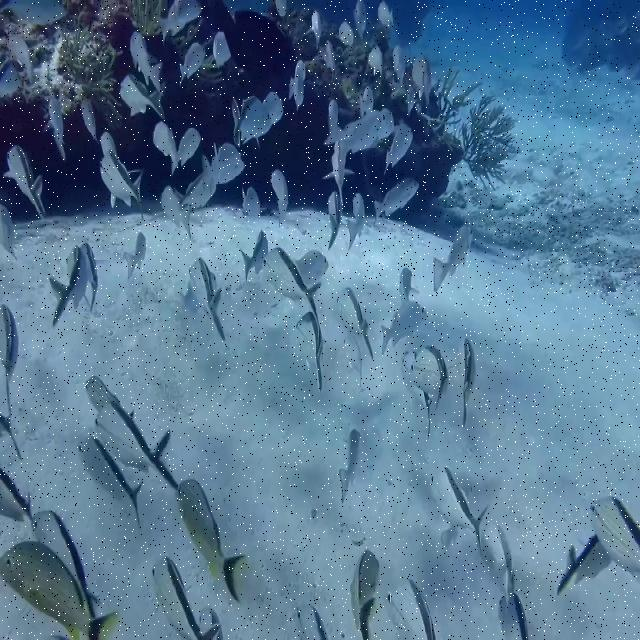aquatic plants: (426, 65, 521, 191), (54, 0, 167, 98)
fish: (0, 539, 119, 639), (178, 479, 248, 602), (95, 400, 179, 490), (31, 510, 101, 616), (78, 434, 147, 533), (150, 557, 222, 639), (429, 466, 489, 555), (588, 496, 639, 583), (266, 248, 321, 322), (1, 146, 46, 221), (556, 533, 611, 594), (46, 248, 87, 326), (190, 259, 226, 343), (100, 150, 145, 216), (384, 581, 435, 639), (349, 549, 381, 639), (337, 286, 374, 362), (378, 302, 430, 356), (483, 526, 514, 615), (434, 224, 473, 293), (408, 345, 448, 410), (230, 94, 271, 152), (296, 312, 324, 395), (156, 0, 202, 48), (323, 114, 383, 150), (320, 144, 363, 193), (129, 29, 164, 88), (119, 78, 167, 121), (202, 142, 245, 189), (338, 429, 364, 505), (374, 177, 417, 219), (382, 121, 414, 176), (159, 185, 192, 237), (43, 96, 65, 165), (241, 232, 268, 286), (496, 595, 529, 639), (462, 338, 477, 427), (289, 606, 329, 639), (153, 121, 178, 173), (179, 41, 206, 85), (181, 174, 216, 207), (297, 249, 328, 286), (123, 235, 148, 280), (86, 376, 119, 410), (341, 336, 364, 384), (347, 190, 366, 248), (271, 168, 289, 225), (328, 191, 344, 249), (178, 127, 201, 164), (212, 34, 233, 67), (239, 187, 259, 219)
